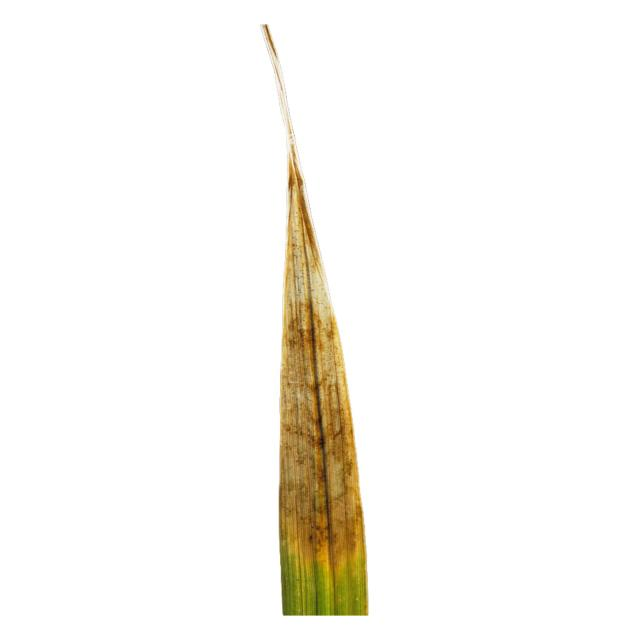Leaf scald: (244, 3, 463, 631)
